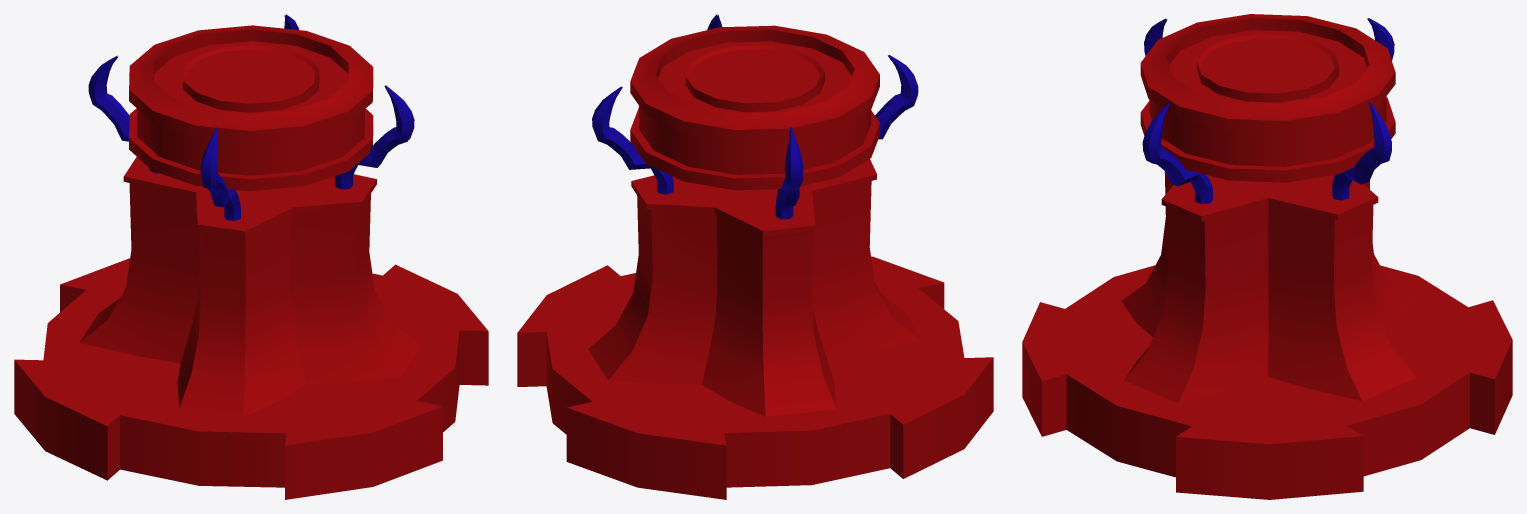
File: Altar.fbx
3 views of the same model, side by side, from view 1: azimuth 30°, elevation 25°; view 2: azimuth 150°, elevation 25°; view 3: azimuth 270°, elevation 25° (orthographic). The views are drawn at different scales.
Parts seen in each view (by area): view 1: Cylinder.005; view 2: Cylinder.005; view 3: Cylinder.005.
Part boxes in pixels (bbox=[...]): Cylinder.005: bbox=[14, 14, 488, 499]; Cylinder.005: bbox=[517, 14, 993, 499]; Cylinder.005: bbox=[1022, 14, 1512, 499].
Size of the model in its own units: 1502 by 1137 by 1502.
